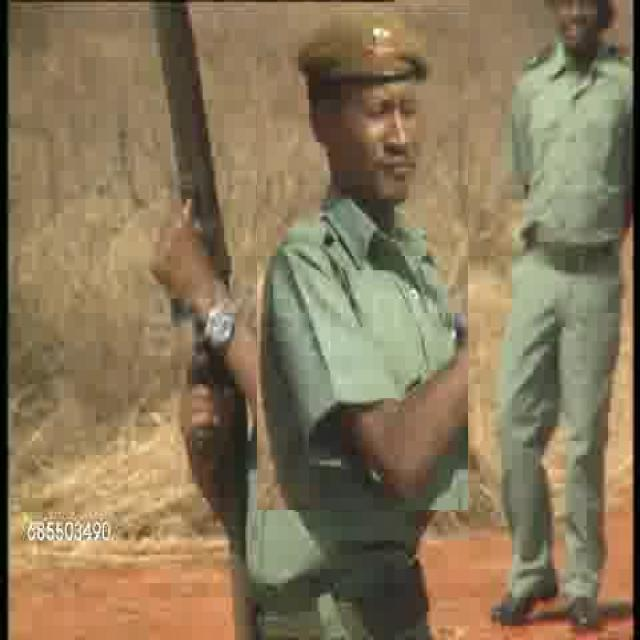poacher: (257, 4, 468, 510), (492, 2, 625, 617)
weapon: (160, 2, 230, 592)
